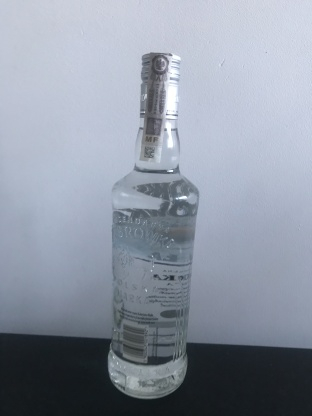nakretka: (137, 48, 183, 123)
